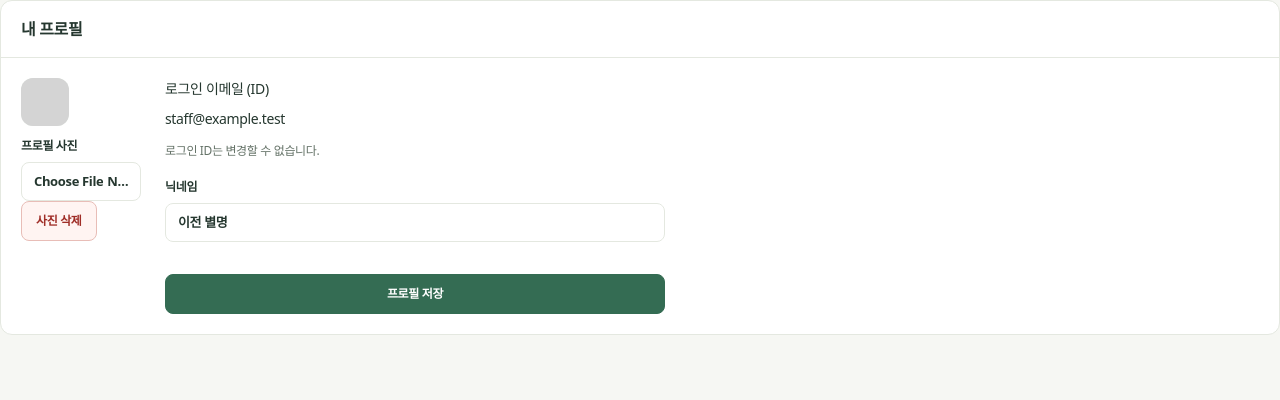
keeps input and omits success on a 422 failure
The image size is (1280, 400).
Replace the text in the field labelled "닉네임" with "새 별명" at (415,222), box [165,203,665,242]
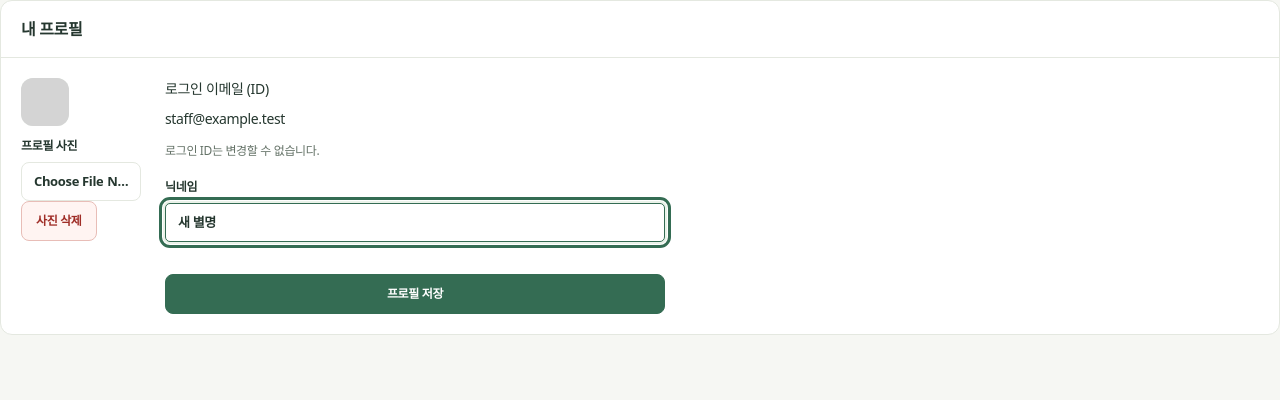
Click the button "프로필 저장" at (415,294), box [165,274,665,314]
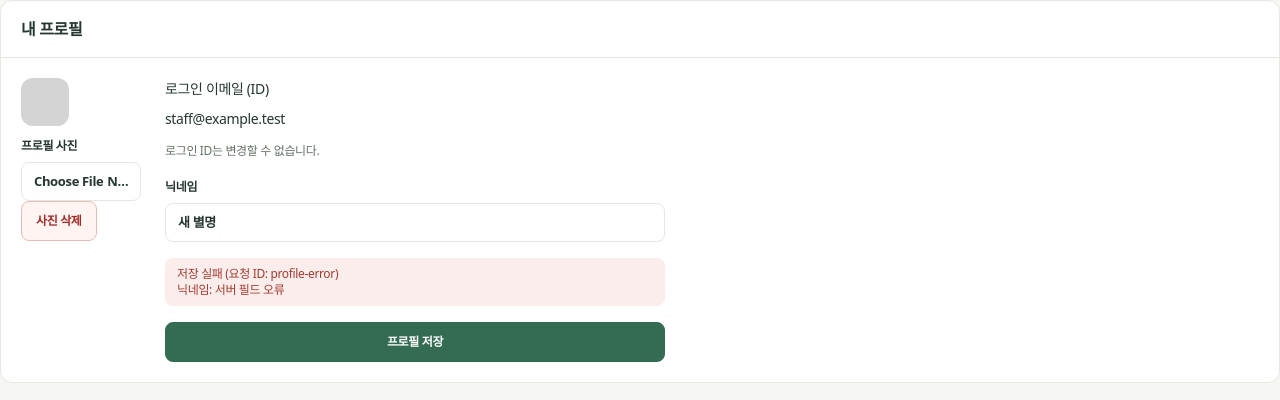
expect the message shows "profile-error": met, box [177,265,338,282]
expect the message shows "서버 필드 오류": met, box [215,281,284,298]
